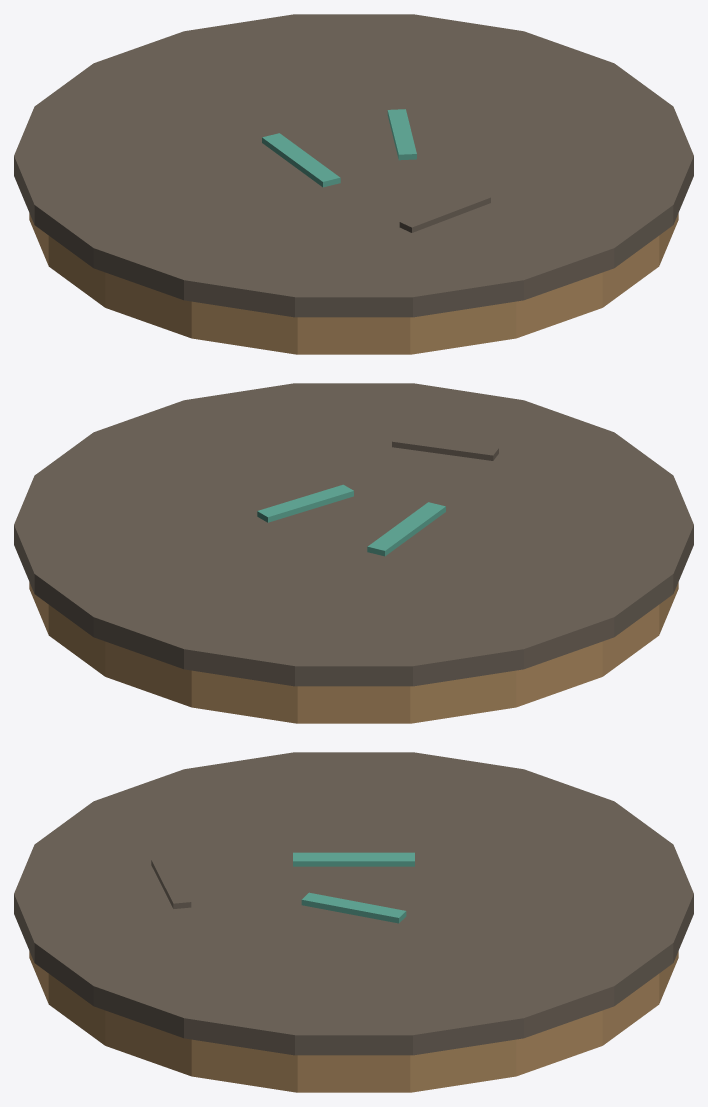
The model's file is OldCoin.glb.
3 renders of one model, top to bottom at view 1: azimuth 30°, elevation 25°; view 2: azimuth 150°, elevation 25°; view 3: azimuth 270°, elevation 25°, orthographic.
Visible parts, largest first — view 1: OldCoin_rim, OldCoin_face, OldCoin_mark_a, OldCoin_cut, OldCoin_mark_b; view 2: OldCoin_rim, OldCoin_face, OldCoin_mark_a, OldCoin_cut, OldCoin_mark_b; view 3: OldCoin_rim, OldCoin_face, OldCoin_mark_a, OldCoin_mark_b, OldCoin_cut.
Part boxes in pixels (<box>): OldCoin_rim: <box>14,14,693,317</box>; OldCoin_face: <box>29,213,678,354</box>; OldCoin_mark_a: <box>262,133,340,187</box>; OldCoin_cut: <box>399,192,490,232</box>; OldCoin_mark_b: <box>387,109,416,160</box>; OldCoin_rim: <box>14,383,693,686</box>; OldCoin_face: <box>29,582,678,723</box>; OldCoin_mark_a: <box>367,502,445,556</box>; OldCoin_cut: <box>392,434,498,460</box>; OldCoin_mark_b: <box>257,484,353,522</box>; OldCoin_rim: <box>14,752,693,1055</box>; OldCoin_face: <box>29,951,678,1092</box>; OldCoin_mark_a: <box>293,852,414,866</box>; OldCoin_mark_b: <box>301,892,406,923</box>; OldCoin_cut: <box>151,858,191,908</box>.
Size of the model in its own units: 0.6598 by 0.0835 by 0.67.
